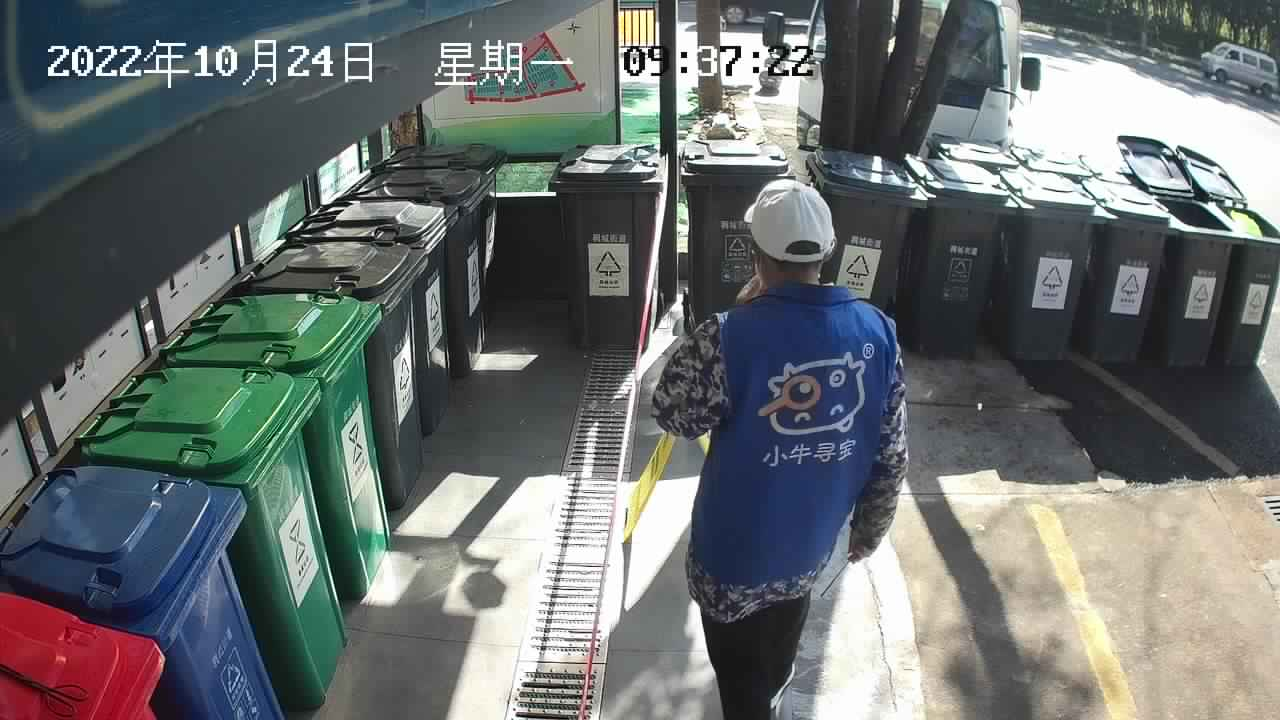worker: (647, 173, 913, 720)
